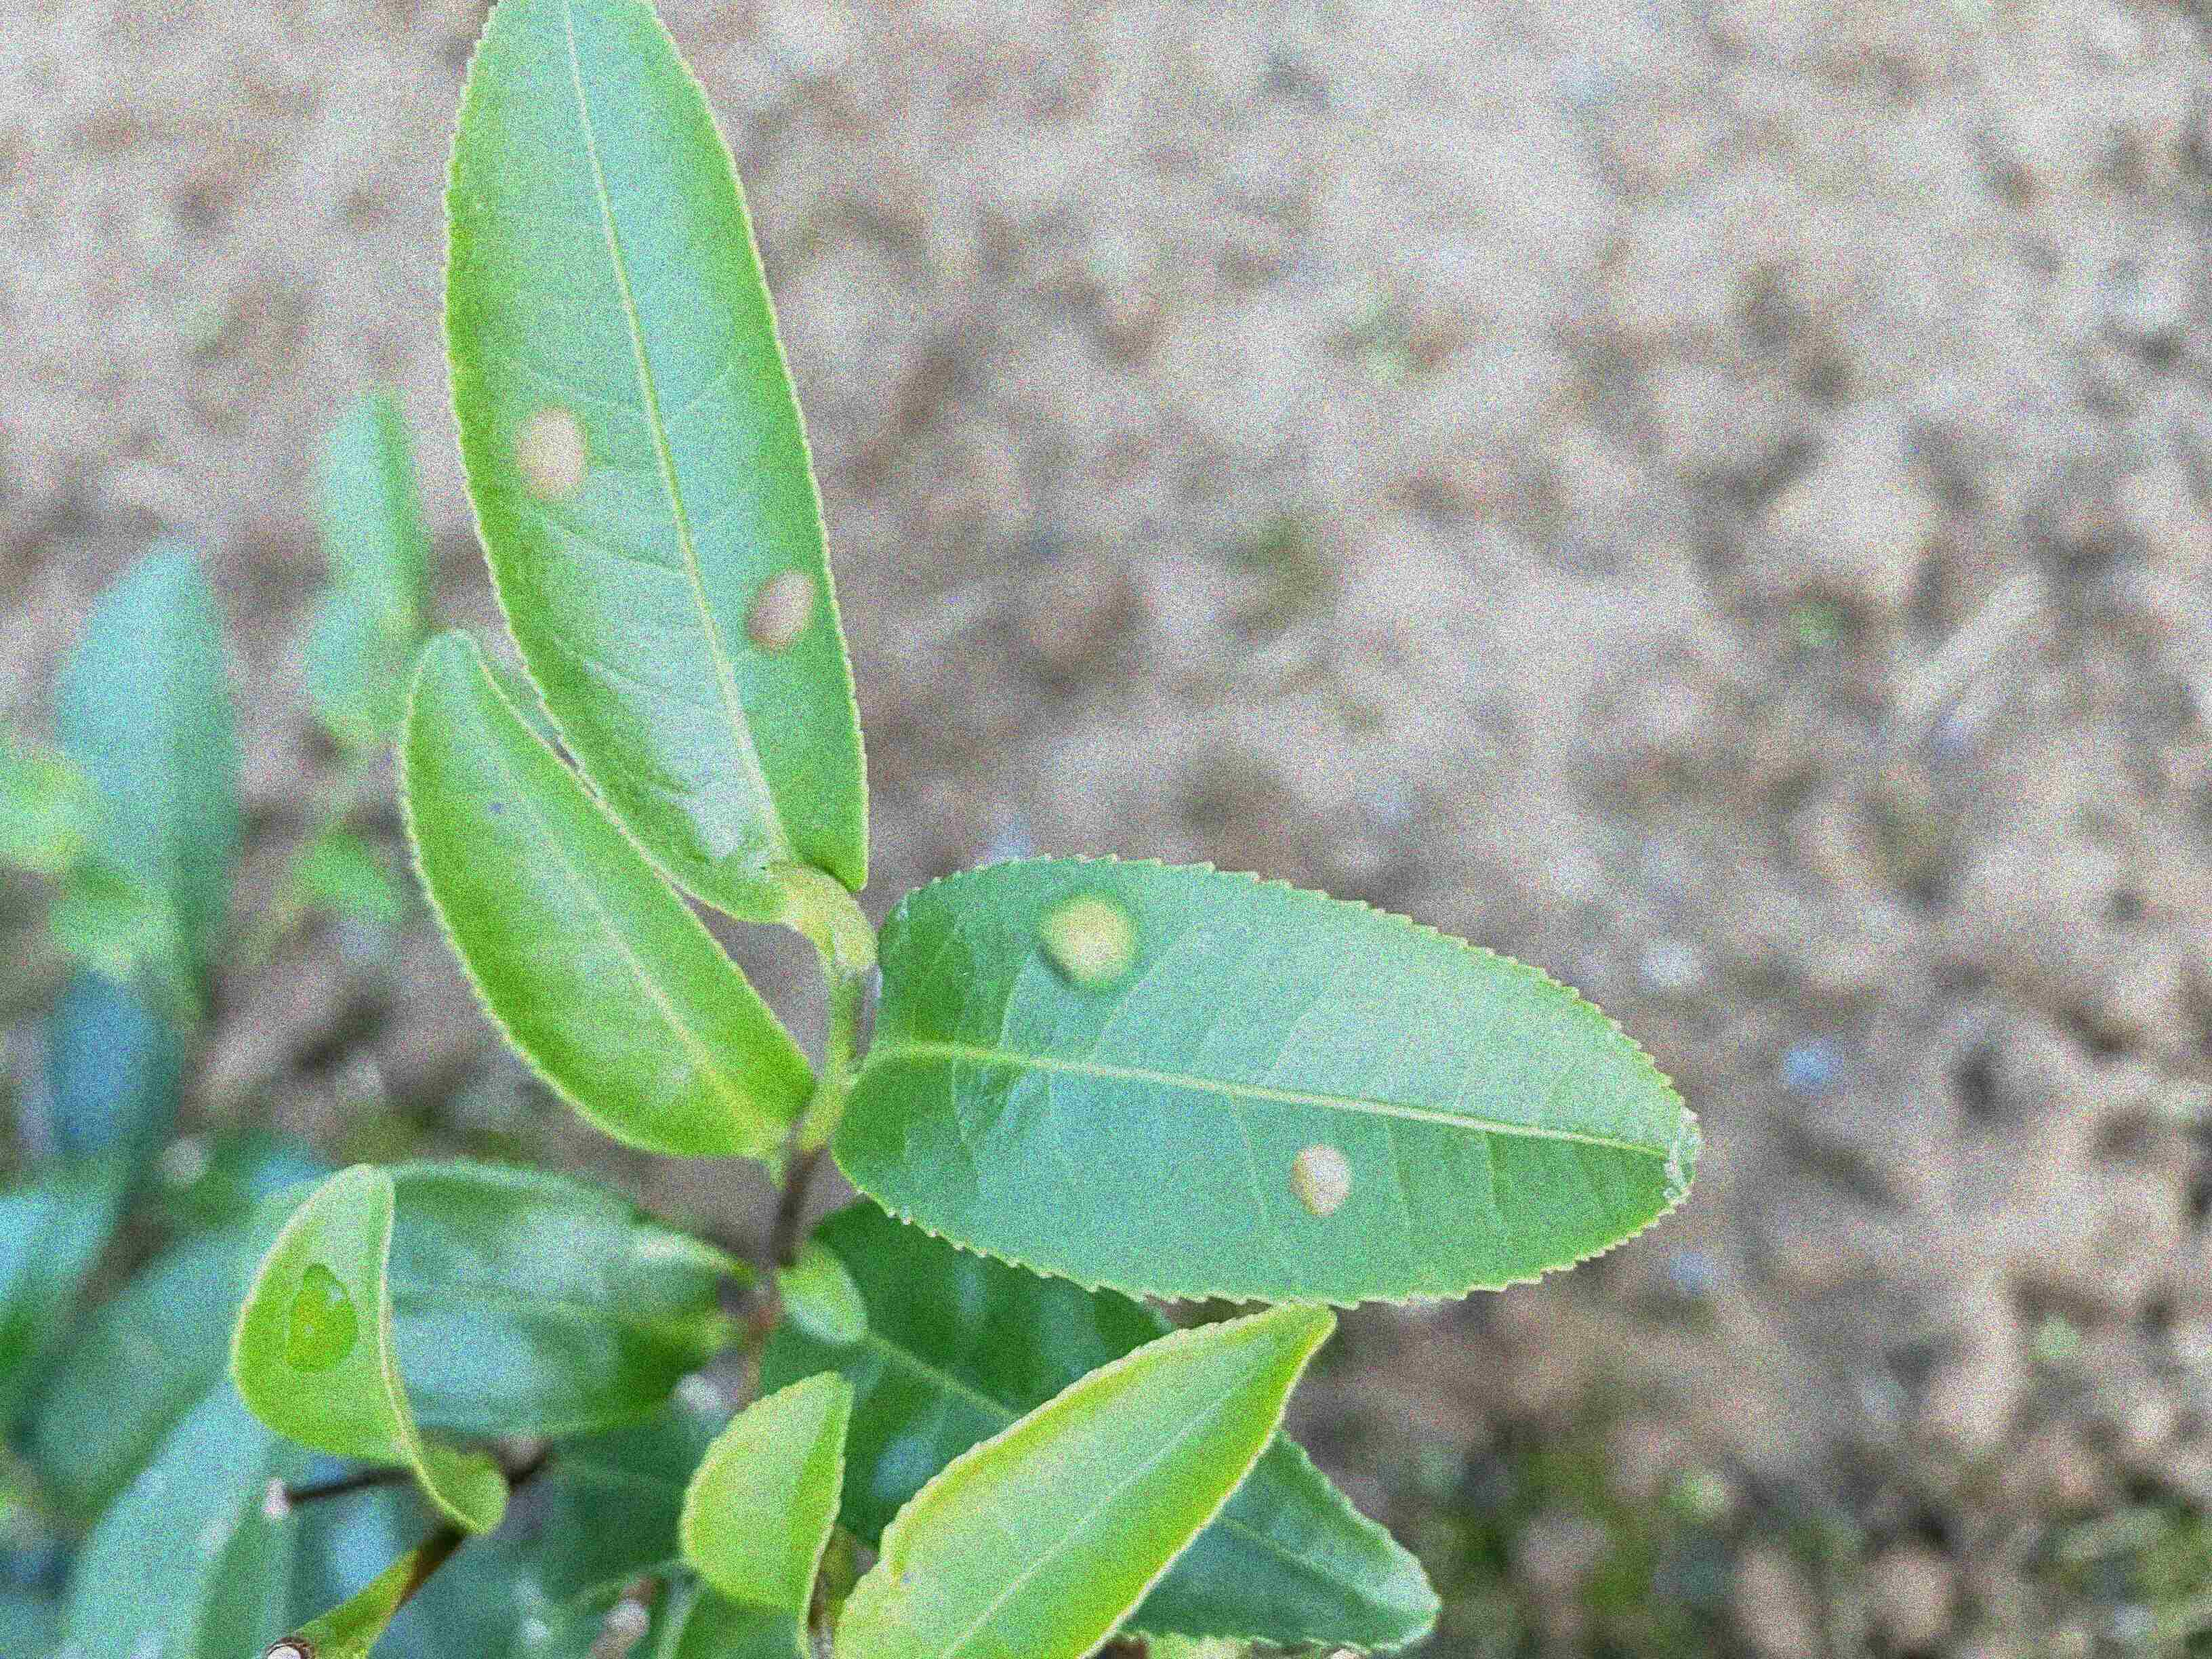chabing_high: (829, 852, 1709, 1310), (437, 7, 874, 927)
chabing_low: (228, 1164, 510, 1535)
healthy: (676, 1371, 857, 1659)
tanju_low: (395, 626, 815, 1162), (831, 1302, 1336, 1657)
